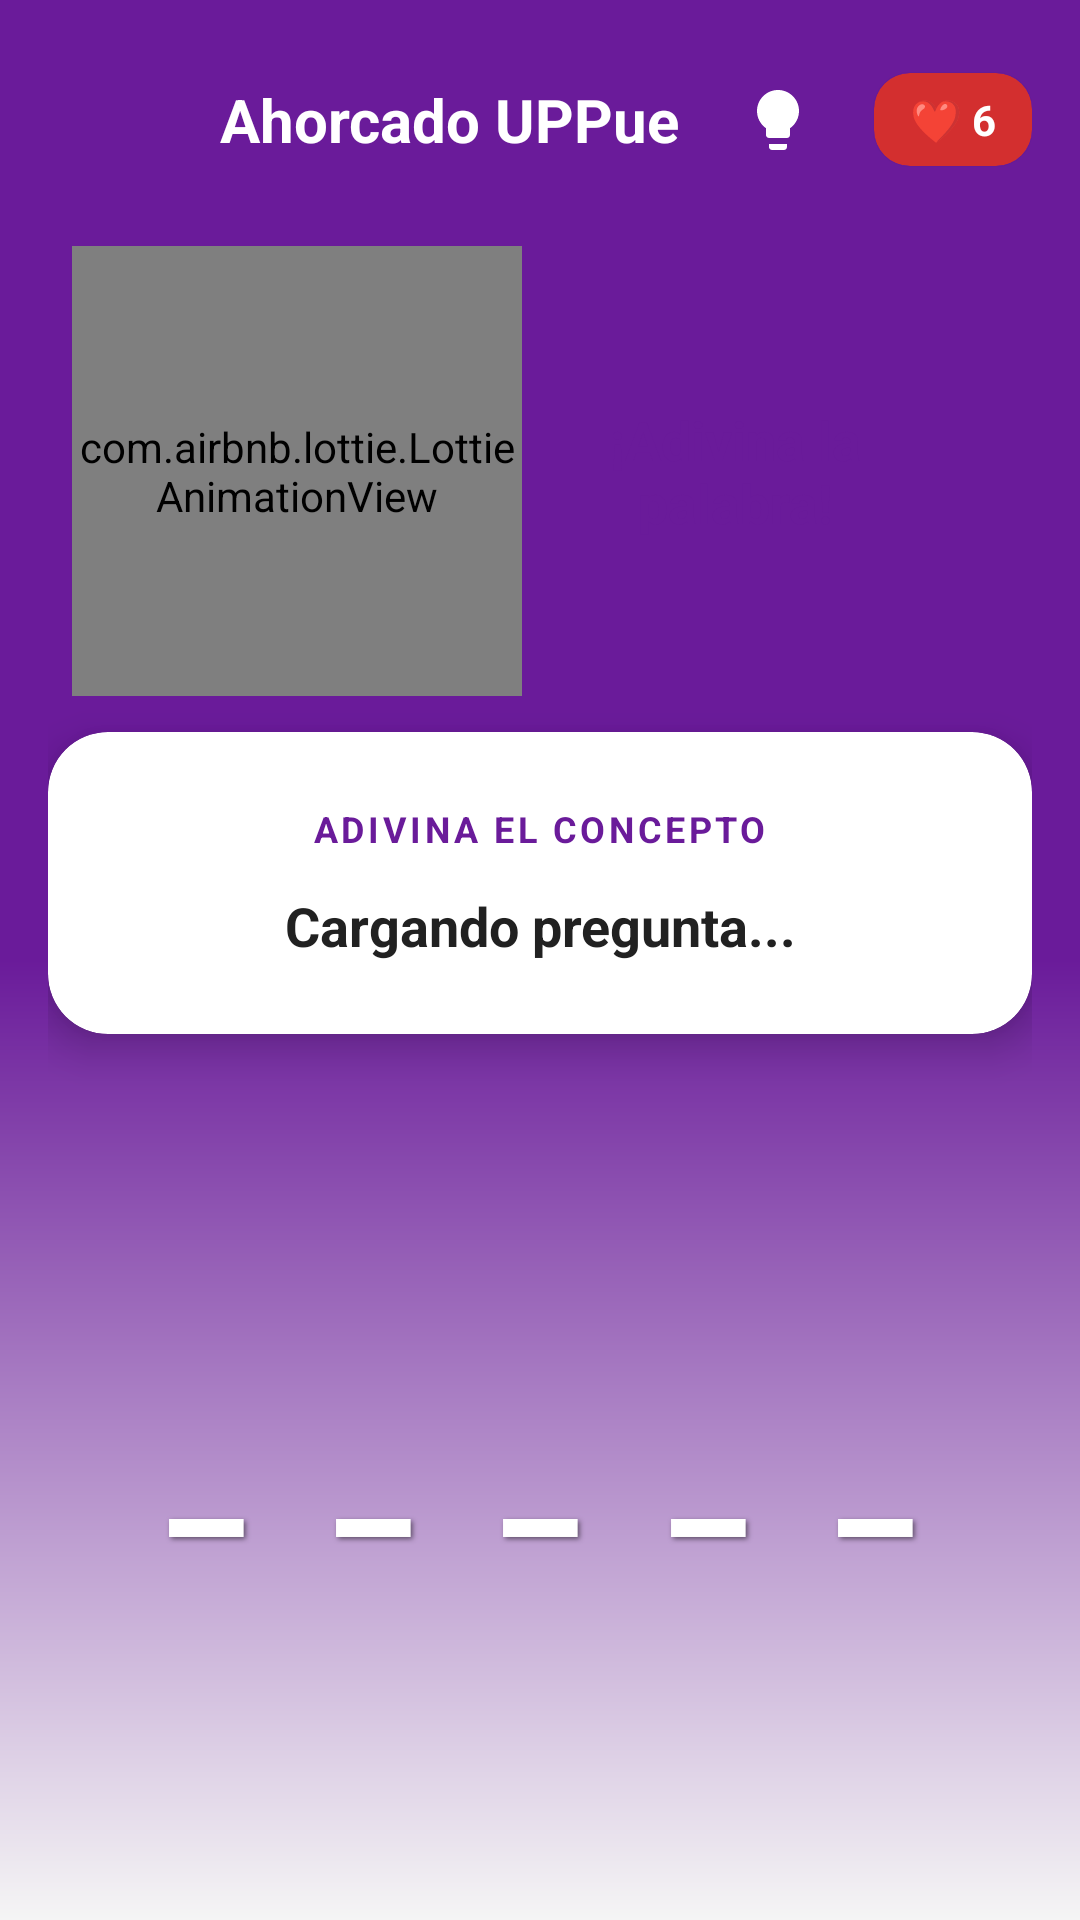

Locate icon controls on the screen. Image size 1080*1920, boxes as (x1, y1, x2, y2).
Instrucciones: (757, 90, 799, 150)
